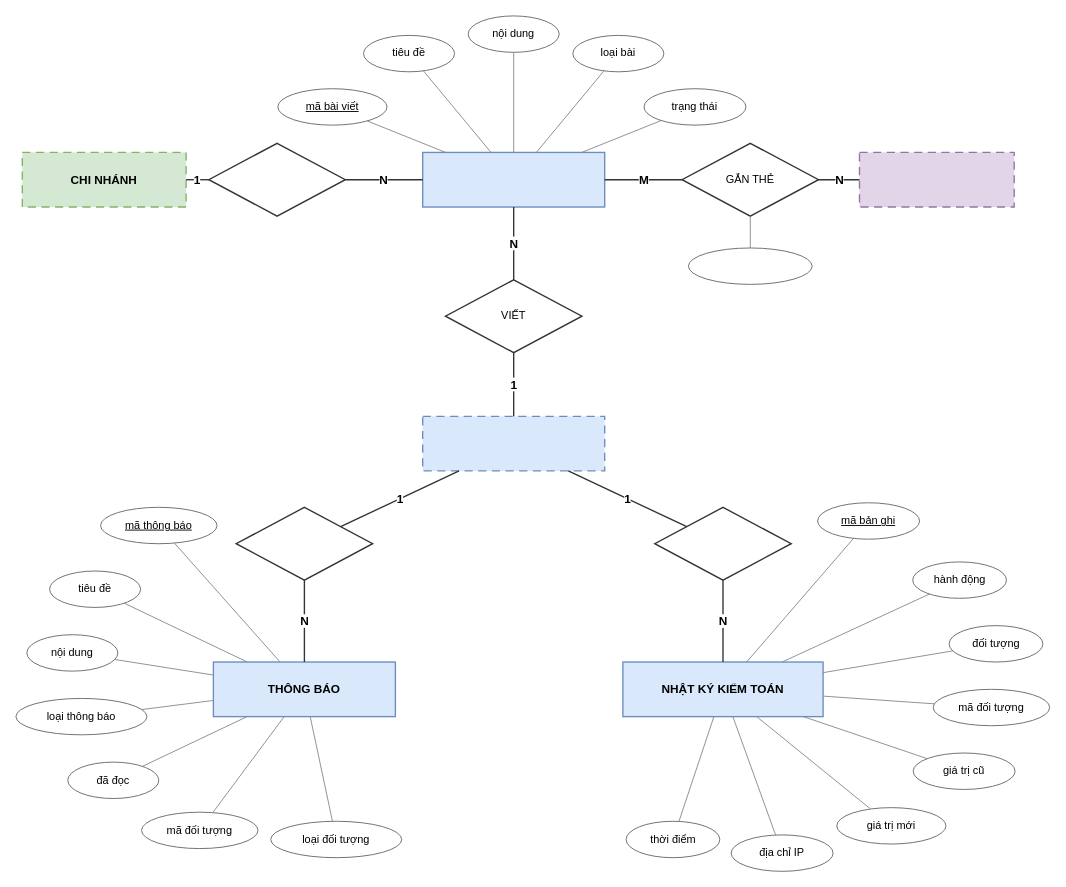
Image size: 1066x887. Some labels were removed from this diagram. The centre of each missing label's shape, as x and y in pixels:
BÀI VIẾT: the point at 513,179
nguồn gắn thẻ: the point at 750,265
NGƯỜI DÙNG: the point at 513,443
NHẬN: the point at 304,543
THẺ: the point at 936,179
THỰC HIỆN: the point at 723,543
ĐĂNG TẠI: the point at 277,179
